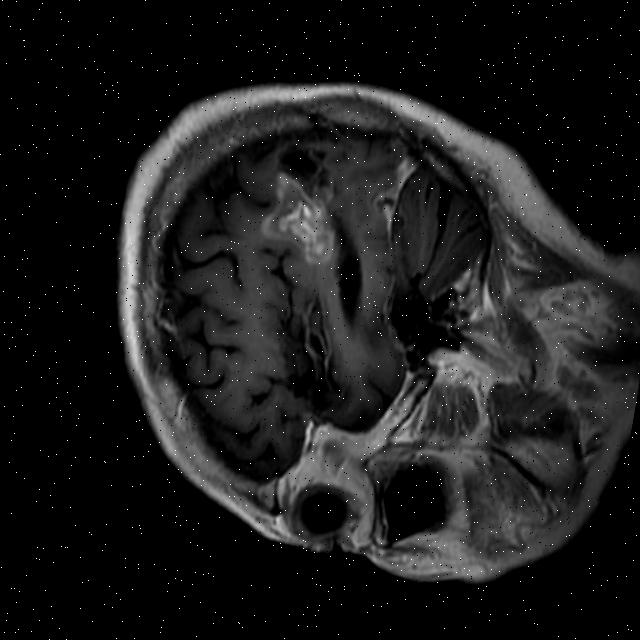Glioma: (252, 167, 347, 269)
